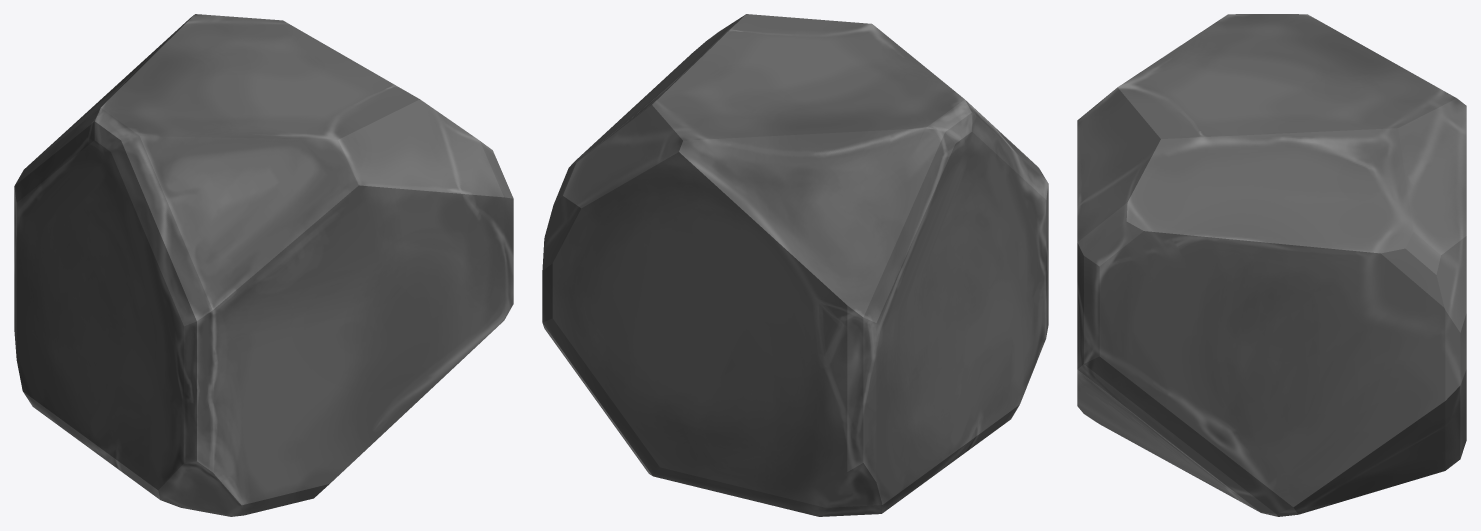
Rendered from Rock_Model.fbx.
The picture shows the model from 3 angles, left to right: view 1: azimuth 30°, elevation 25°; view 2: azimuth 150°, elevation 25°; view 3: azimuth 270°, elevation 25°; orthographic projection. The views are drawn at different scales.
Visible parts, largest first — view 1: Cube; view 2: Cube; view 3: Cube.
Part boxes in pixels (x1,y1,x2,y2): Cube: (14,14,513,516); Cube: (542,14,1048,516); Cube: (1077,14,1466,516).
Size of the model in its own units: 200 by 200 by 200.
